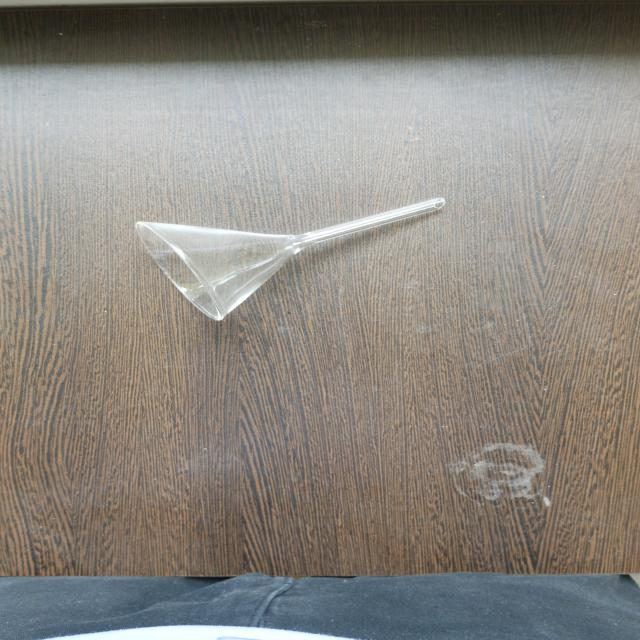funnel: (117, 182, 460, 332)
